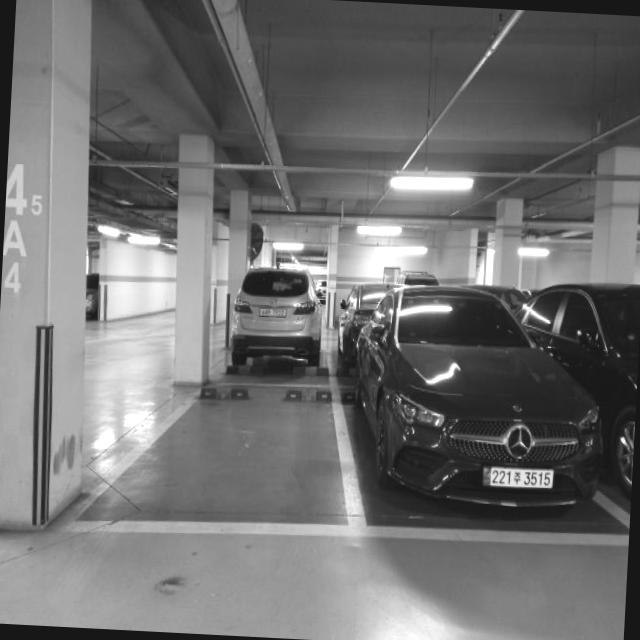car: (348, 281, 616, 528), (224, 262, 325, 384)
free: (150, 376, 352, 530)
